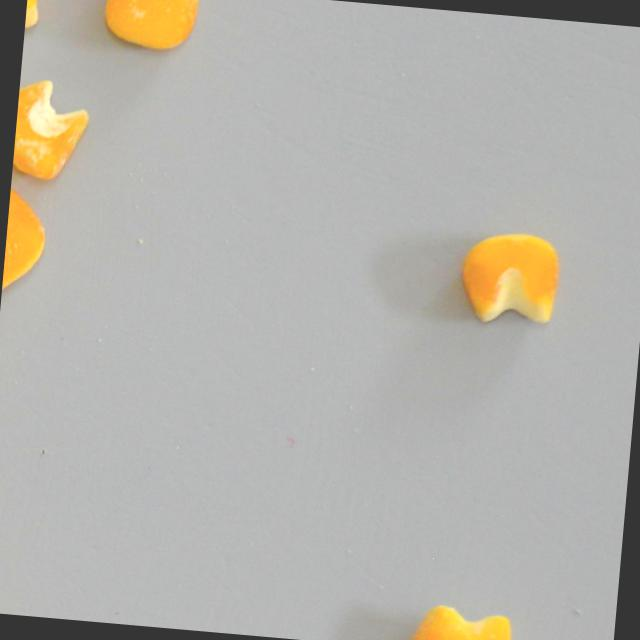no_canjicado: (456, 229, 561, 328)
pelicula: (11, 75, 93, 183), (0, 175, 49, 304), (99, 0, 199, 53), (401, 599, 516, 640)
